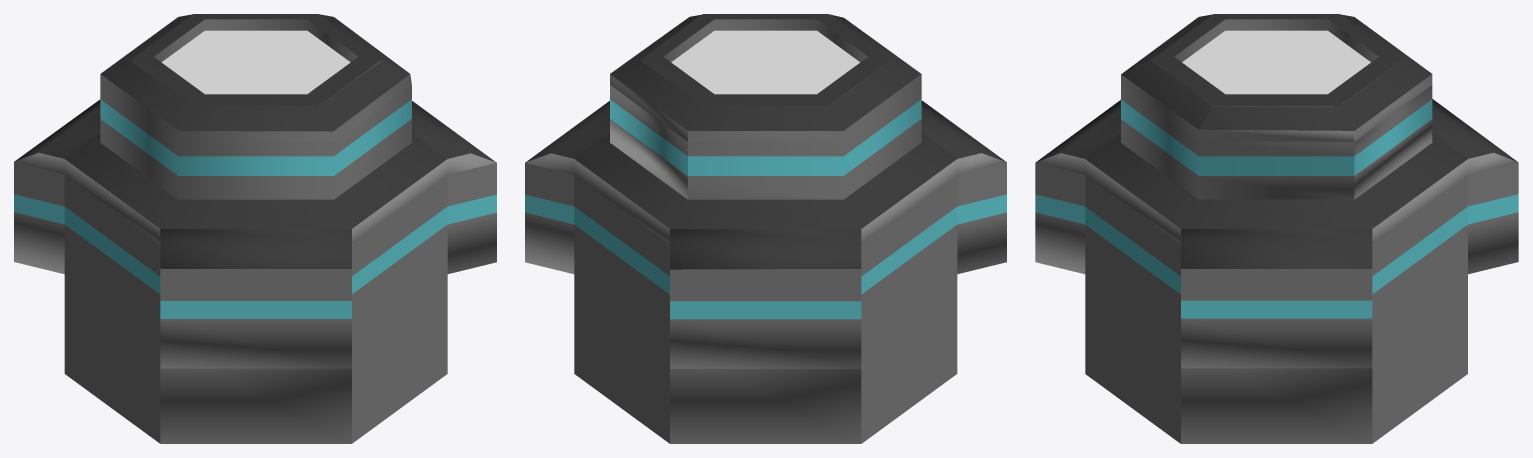
3 views of the same model, side by side, from view 1: azimuth 30°, elevation 25°; view 2: azimuth 150°, elevation 25°; view 3: azimuth 270°, elevation 25° (orthographic).
Visible parts, largest first — view 1: Okrąg.001; view 2: Okrąg.001; view 3: Okrąg.001.
Part boxes in pixels (x1,y1,x2,y2): Okrąg.001: (14,14,496,443); Okrąg.001: (525,14,1006,443); Okrąg.001: (1035,14,1518,443).
Size of the model in its own units: 161 by 135 by 186.
